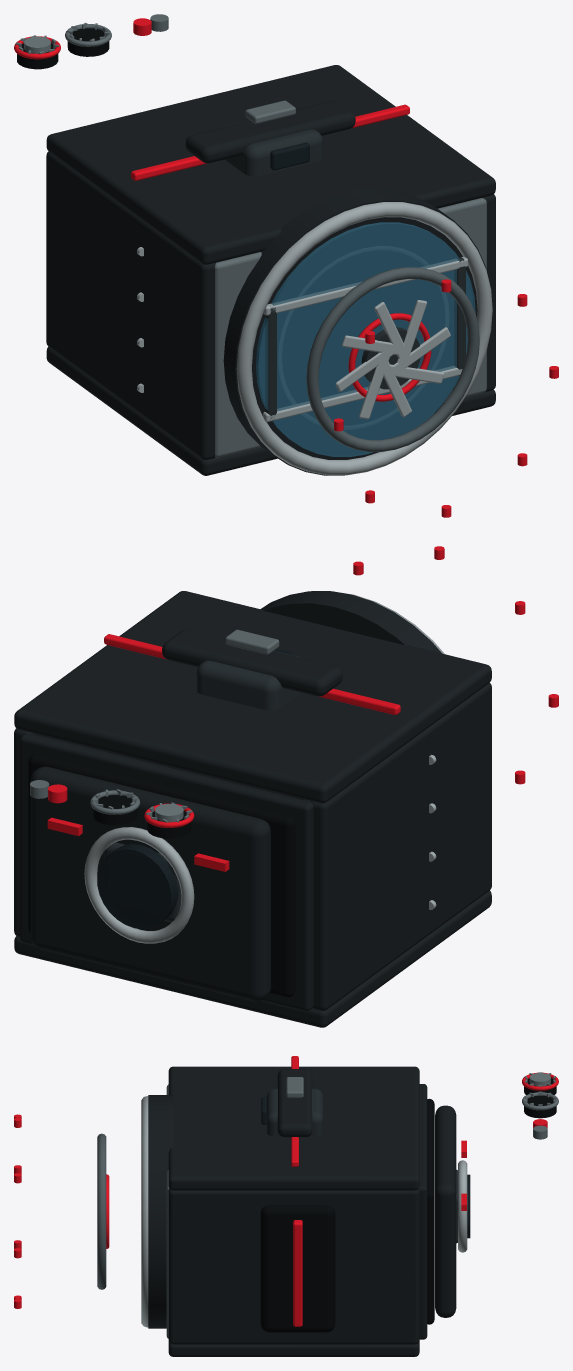
File: ufirst-camera-mobile.glb
3 views of the same model, one above another, from view 1: azimuth 30°, elevation 25°; view 2: azimuth 150°, elevation 25°; view 3: azimuth 270°, elevation 25° (orthographic). The views are drawn at different scales.
Visible parts, largest first — view 1: TopPlate, LeftBodyRail, FrontLens, LensHousingFrontEdge, LensHousing, Aperture, FrontChassisPlate, TopCarryHandle, BottomPlate, ViewfinderPrism, RightBodyRail, Shutter (+17 smaller); view 2: TopPlate, LeftBodyRail, RearModule, RearChassisPlate, RearGripPanel, BottomPlate, ViewfinderGlass, TopCarryHandle, LensHousing, ViewfinderRing, ViewfinderPrism, UFirstAccentRail (+3 smaller); view 3: RightBodyRail, TopPlate, Grip, LensHousing, RearModule, BottomPlate, RearChassisPlate, TopCarryHandle, LensHousingFrontEdge, RearGripPanel, Aperture, ViewfinderPrism (+4 smaller).
Boxes of the visible parts, x1=… form: TopPlate: x1=46, y1=65, x2=495, y2=264; LeftBodyRail: x1=46, y1=151, x2=215, y2=459; FrontLens: x1=256, y1=222, x2=475, y2=456; LensHousingFrontEdge: x1=236, y1=202, x2=492, y2=475; LensHousing: x1=223, y1=188, x2=490, y2=475; Aperture: x1=306, y1=267, x2=479, y2=451; FrontChassisPlate: x1=215, y1=198, x2=486, y2=457; TopCarryHandle: x1=185, y1=101, x2=355, y2=163; BottomPlate: x1=46, y1=347, x2=495, y2=475; ViewfinderPrism: x1=224, y1=120, x2=322, y2=176; RightBodyRail: x1=482, y1=194, x2=495, y2=391; Shutter: x1=263, y1=256, x2=467, y2=315; TopPlate: x1=14, y1=591, x2=491, y2=803; LeftBodyRail: x1=311, y1=683, x2=491, y2=1010; RearModule: x1=30, y1=766, x2=270, y2=1001; RearChassisPlate: x1=20, y1=733, x2=313, y2=1011; RearGripPanel: x1=28, y1=754, x2=295, y2=997; BottomPlate: x1=14, y1=890, x2=491, y2=1027; ViewfinderGlass: x1=97, y1=844, x2=178, y2=929; TopCarryHandle: x1=162, y1=630, x2=342, y2=696; LensHousing: x1=260, y1=591, x2=441, y2=653; ViewfinderRing: x1=84, y1=827, x2=194, y2=943; ViewfinderPrism: x1=196, y1=650, x2=301, y2=710; UFirstAccentRail: x1=104, y1=634, x2=400, y2=714; RightBodyRail: x1=168, y1=1188, x2=419, y2=1344; TopPlate: x1=168, y1=1066, x2=419, y2=1190; Grip: x1=260, y1=1205, x2=335, y2=1332; LensHousing: x1=148, y1=1095, x2=173, y2=1328; RearModule: x1=435, y1=1105, x2=456, y2=1317; BottomPlate: x1=168, y1=1340, x2=419, y2=1356; RearChassisPlate: x1=419, y1=1084, x2=427, y2=1339; TopCarryHandle: x1=277, y1=1069, x2=312, y2=1137; LensHousingFrontEdge: x1=141, y1=1096, x2=148, y2=1327; RearGripPanel: x1=427, y1=1098, x2=434, y2=1324; Aperture: x1=97, y1=1133, x2=106, y2=1289; ViewfinderPrism: x1=266, y1=1088, x2=323, y2=1136.
Bounding box in the file's own units: 6 × 5.33 × 11.28.
